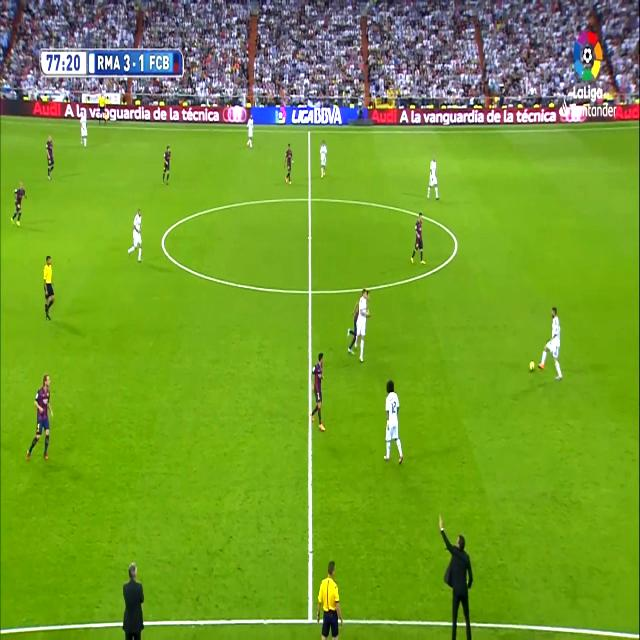halfcircle_bottom: (304, 277, 316, 304)
halfcircle_top: (305, 188, 315, 210)
midline_bottom_intersection: (302, 602, 318, 628)
midline_top_intersection: (306, 124, 314, 139)
